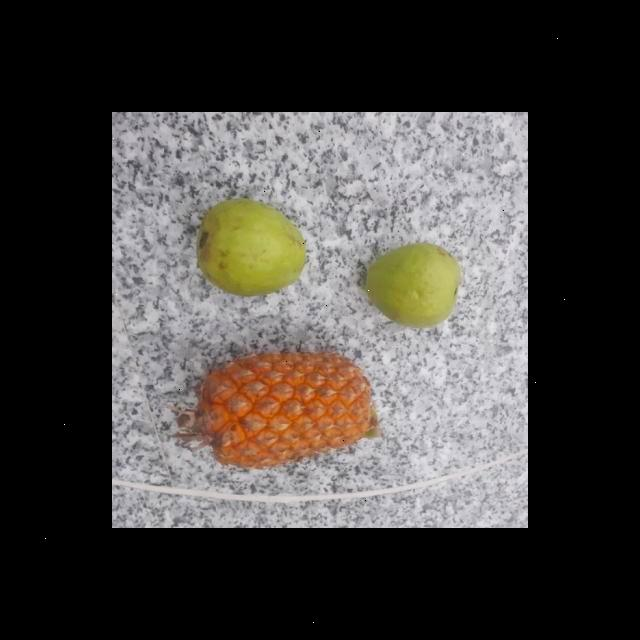guava: (194, 202, 304, 294), (362, 244, 461, 326)
pineapple: (186, 346, 375, 468)
